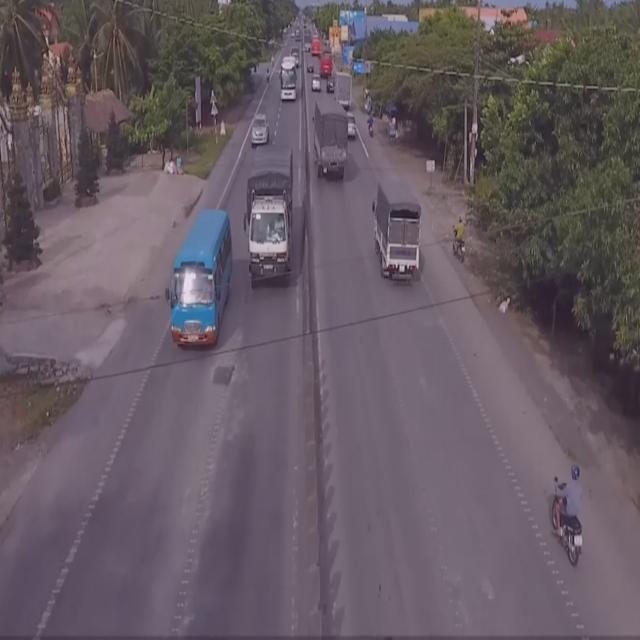bus: (168, 210, 235, 354), (278, 55, 298, 101)
car: (250, 112, 272, 151)
motorbike: (544, 458, 590, 568), (449, 216, 466, 270)
truck: (245, 142, 297, 292), (372, 180, 425, 289), (312, 104, 348, 186)
